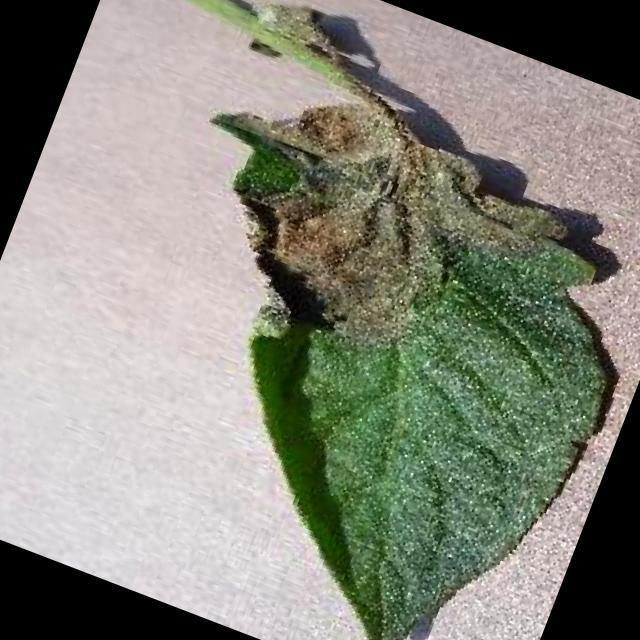Tomato late blight leaf: (43, 49, 640, 640)
